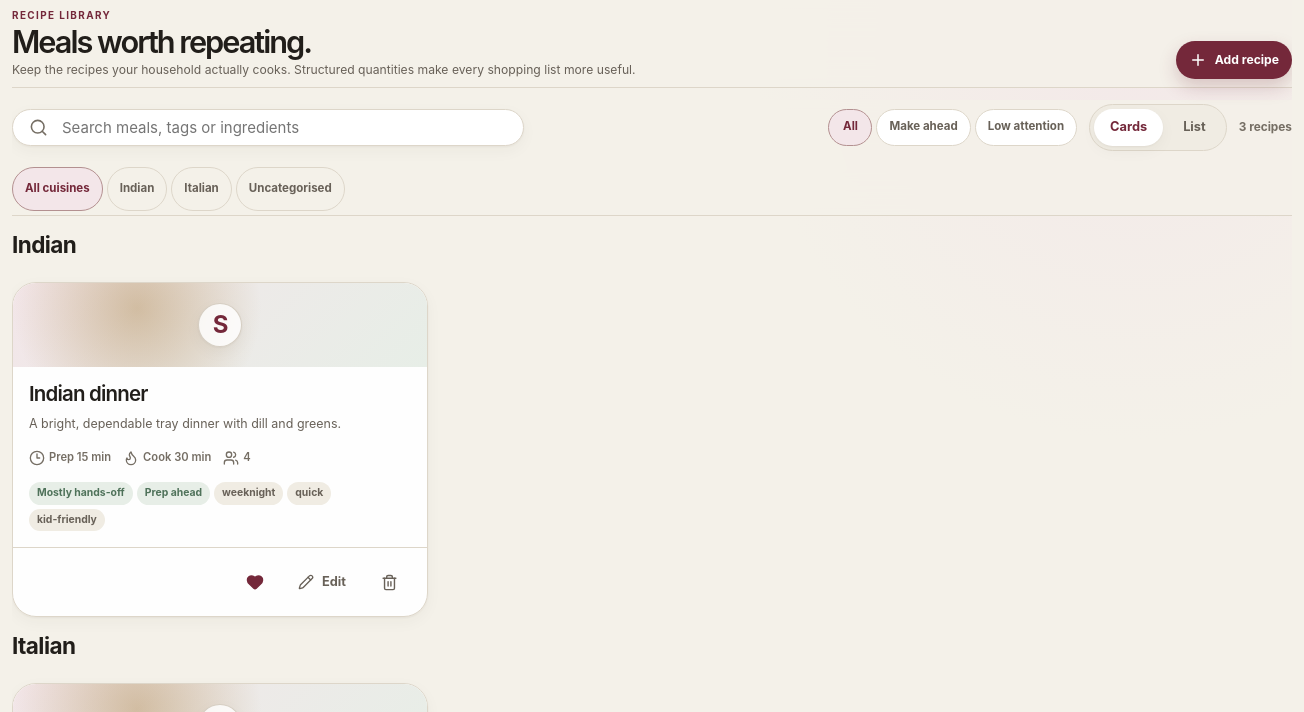
Test: RecipesPage › filters recipes by cuisine
The width and height of the screenshot is (1304, 712).
Click the button "Italian" at (202,189), box [171,167,232,211]
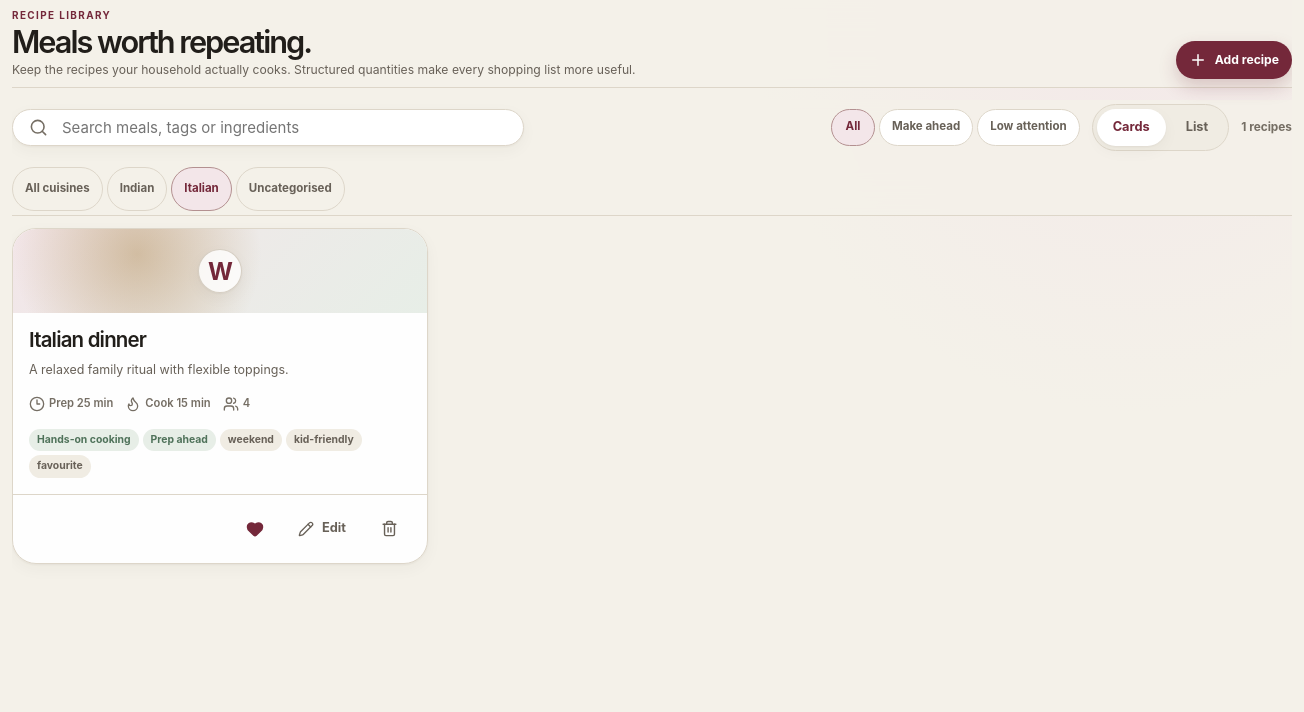
Check: the text "Italian dinner" is shown, box [29,327,146,352]
Check: the text "Indian dinner" is gone
Check: the text "1 recipe" is shown, box [1241,118,1292,136]
